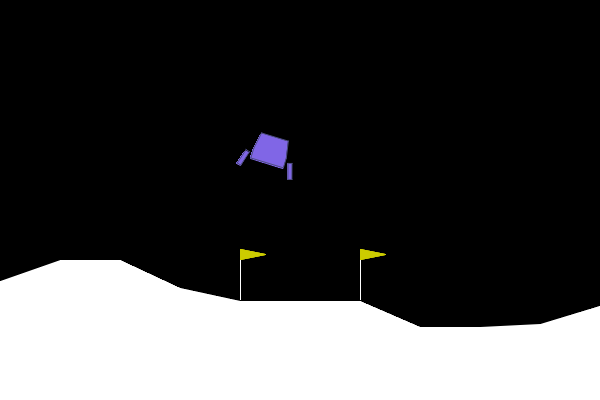lander: (235, 127, 304, 182)
